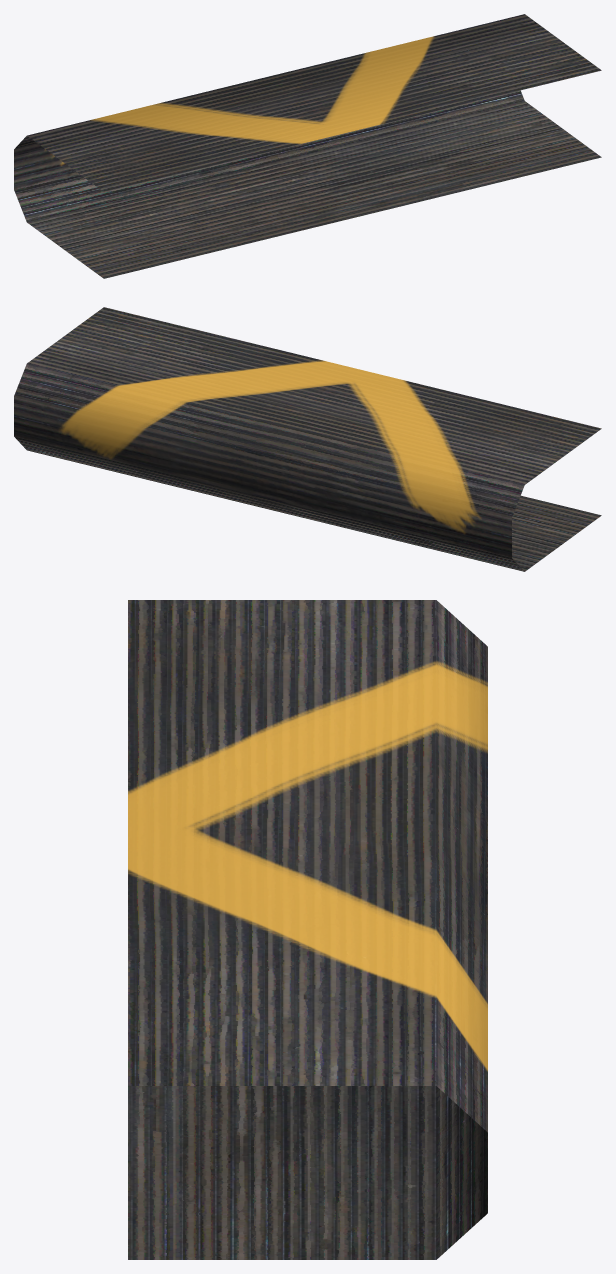
Rendered from Belt_ConvEndCap.FBX.
3 views of the same model, one above another, from view 1: azimuth 30°, elevation 25°; view 2: azimuth 150°, elevation 25°; view 3: azimuth 270°, elevation 25° (orthographic). The views are drawn at different scales.
Visible parts, largest first — view 1: Belt_ConvEndcap002; view 2: Belt_ConvEndcap002; view 3: Belt_ConvEndcap002.
Part boxes in pixels (<box>): Belt_ConvEndcap002: <box>14,14,601,278</box>; Belt_ConvEndcap002: <box>14,307,601,571</box>; Belt_ConvEndcap002: <box>128,600,487,1259</box>.
Bounding box in the file's own units: 1.5 × 0.25 × 0.4696.
Materials: 1 (1 with a texture image).
